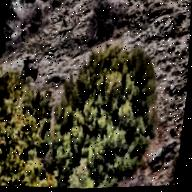boar: (15, 54, 46, 88)
